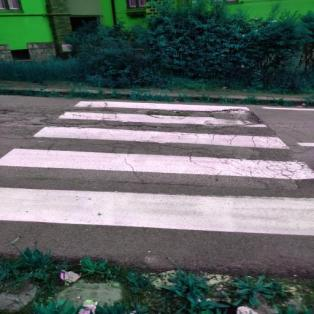Paso de Cebra: (31, 109, 296, 153)
